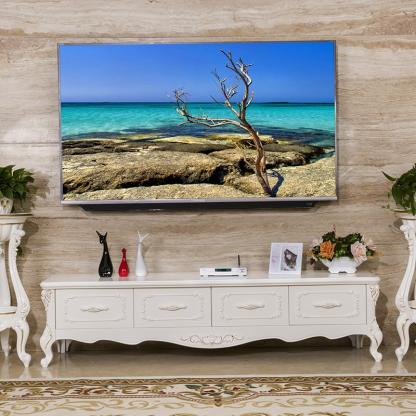TV stand: (38, 262, 386, 363)
